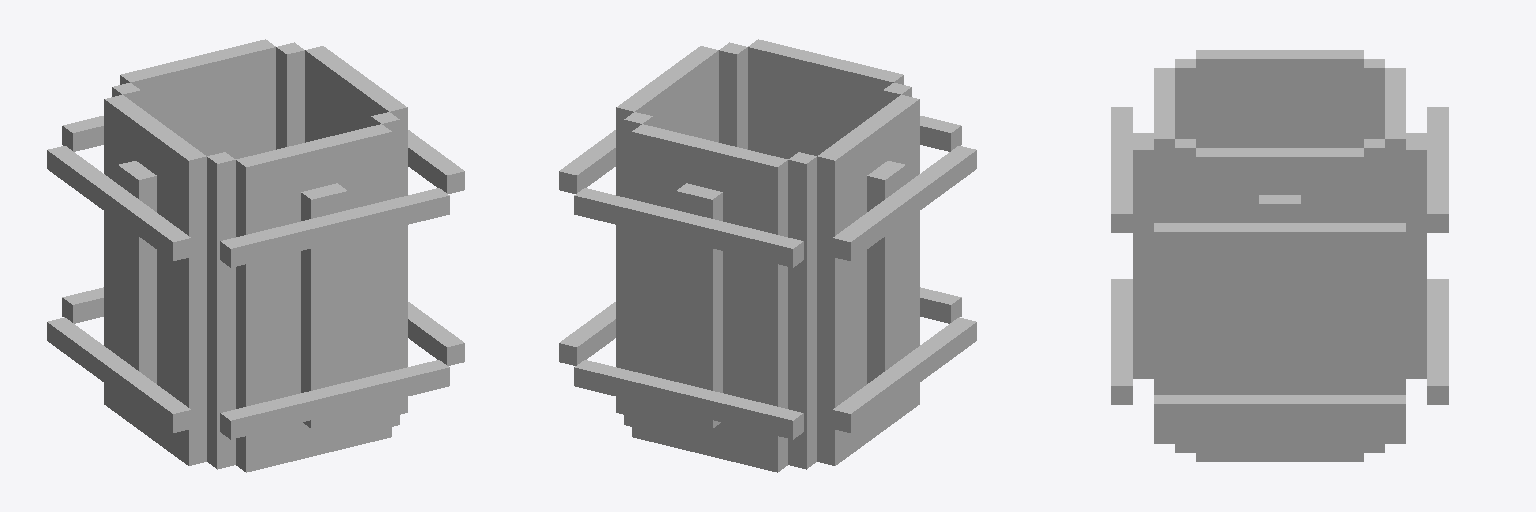
File: laser_core.obj
The picture shows the model from 3 angles: view 1: azimuth 30°, elevation 25°; view 2: azimuth 150°, elevation 25°; view 3: azimuth 270°, elevation 25°; orthographic projection.
Visible parts, largest first — view 1: cube, HSSouthPanel, HSSouthTop, HSSouthBot, HSWestPanel, HSWestBot, HSWestTop, HSEastBot, HSEastTop, HSNothTop, HSNorthBot; view 2: cube, HSNorthPanel, HSNothTop, HSNorthBot, HSWestPanel, HSWestBot, HSWestTop, HSEastBot, HSEastTop, HSSouthTop, HSSouthBot; view 3: cube, HSEastPanel, HSEastBot, HSEastTop, HSNorthPanel, HSSouthPanel, HSNorthBot, HSSouthBot, HSNothTop, HSSouthTop.
Part boxes in pixels (bbox=[...]): cube: bbox=[104, 39, 407, 472]; HSSouthPanel: bbox=[301, 183, 347, 428]; HSSouthTop: bbox=[220, 188, 449, 267]; HSSouthBot: bbox=[220, 360, 449, 439]; HSWestPanel: bbox=[118, 161, 156, 408]; HSWestBot: bbox=[47, 317, 190, 432]; HSWestTop: bbox=[47, 146, 190, 260]; HSEastBot: bbox=[408, 302, 464, 365]; HSEastTop: bbox=[408, 130, 464, 193]; HSNothTop: bbox=[62, 116, 103, 151]; HSNorthBot: bbox=[62, 287, 103, 323]; cube: bbox=[616, 39, 919, 472]; HSNorthPanel: bbox=[676, 183, 722, 428]; HSNothTop: bbox=[574, 188, 803, 267]; HSNorthBot: bbox=[574, 360, 803, 439]; HSWestPanel: bbox=[867, 161, 905, 408]; HSWestBot: bbox=[833, 317, 976, 432]; HSWestTop: bbox=[833, 146, 976, 260]; HSEastBot: bbox=[559, 302, 615, 365]; HSEastTop: bbox=[559, 130, 615, 193]; HSSouthTop: bbox=[920, 116, 961, 151]; HSSouthBot: bbox=[920, 287, 961, 323]; cube: bbox=[1154, 50, 1405, 461]; HSEastPanel: bbox=[1259, 195, 1300, 432]; HSEastBot: bbox=[1154, 395, 1405, 422]; HSEastTop: bbox=[1154, 223, 1405, 250]; HSNorthPanel: bbox=[1406, 133, 1426, 378]; HSSouthPanel: bbox=[1133, 133, 1153, 378]; HSNorthBot: bbox=[1427, 279, 1448, 404]; HSSouthBot: bbox=[1111, 279, 1132, 404]; HSNothTop: bbox=[1427, 107, 1448, 232]; HSSouthTop: bbox=[1111, 107, 1132, 232].
Bounding box in the file's own units: 1 × 1 × 1.